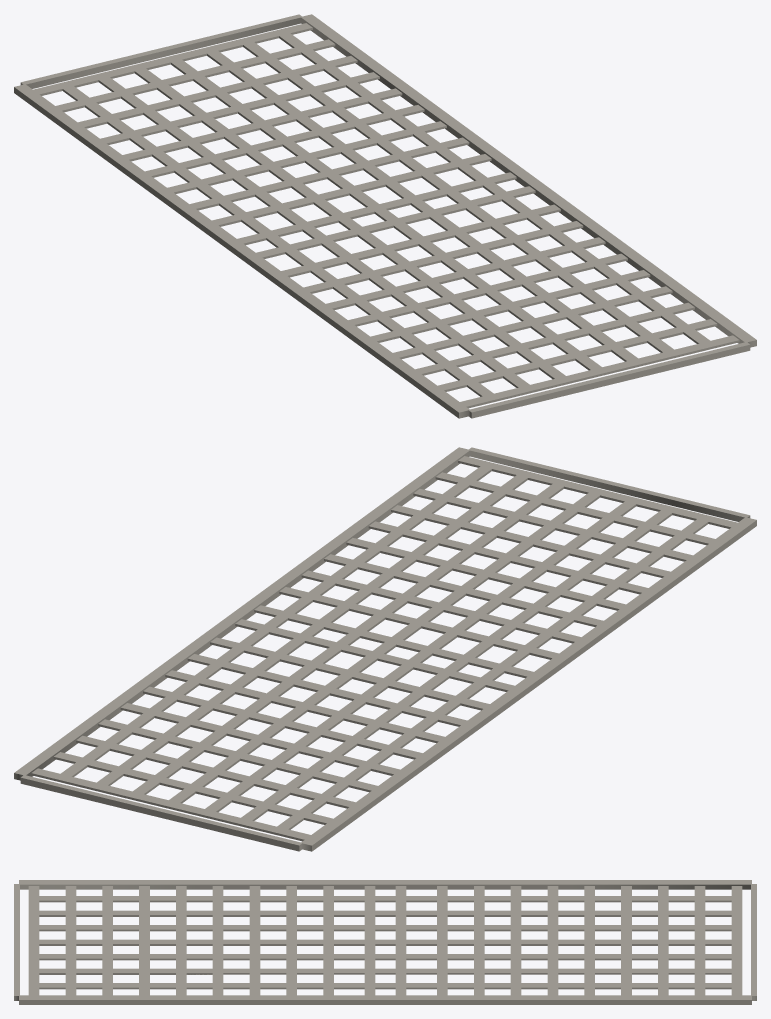
Rendered from metalgrid_long.fbx.
3 views of the same model, one above another, from view 1: azimuth 30°, elevation 25°; view 2: azimuth 150°, elevation 25°; view 3: azimuth 270°, elevation 25° (orthographic). The views are drawn at different scales.
Parts seen in each view (by area): view 1: metalgrid_long; view 2: metalgrid_long; view 3: metalgrid_long.
Part boxes in pixels (x1=…): metalgrid_long: x1=14, y1=14, x2=756, y2=418; metalgrid_long: x1=14, y1=447, x2=756, y2=851; metalgrid_long: x1=14, y1=880, x2=756, y2=1004.
Size of the model in its own units: 216 by 4.2 by 566.
